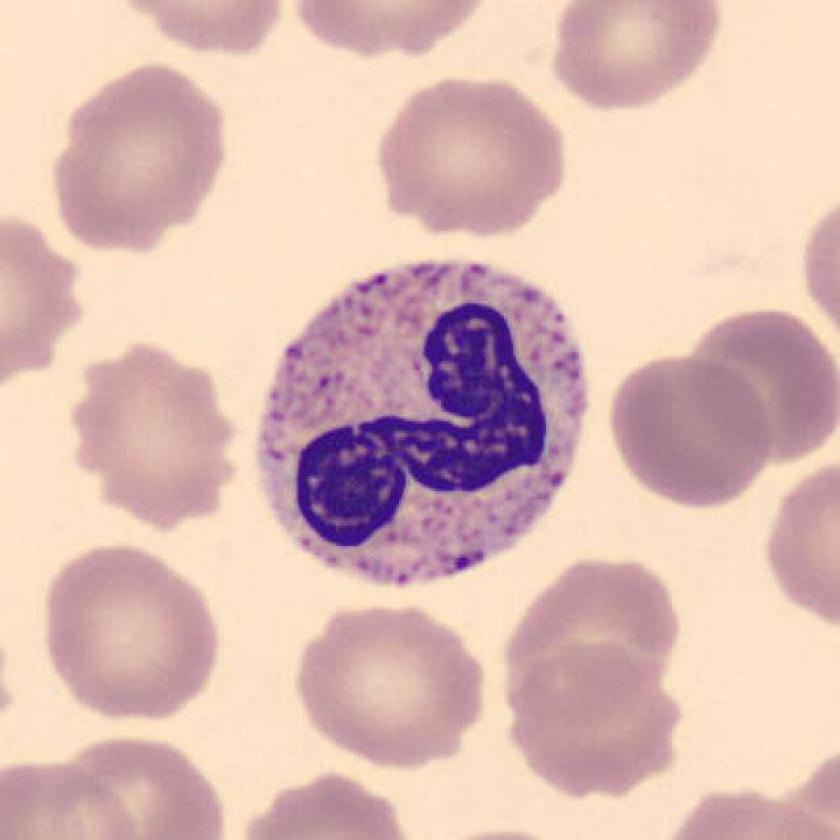neutrophil: (259, 257, 591, 588)
